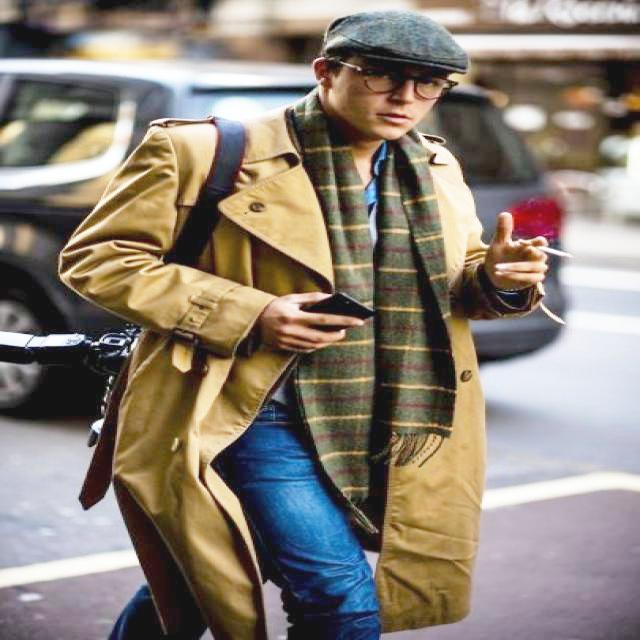TOPI: (323, 8, 471, 72)
